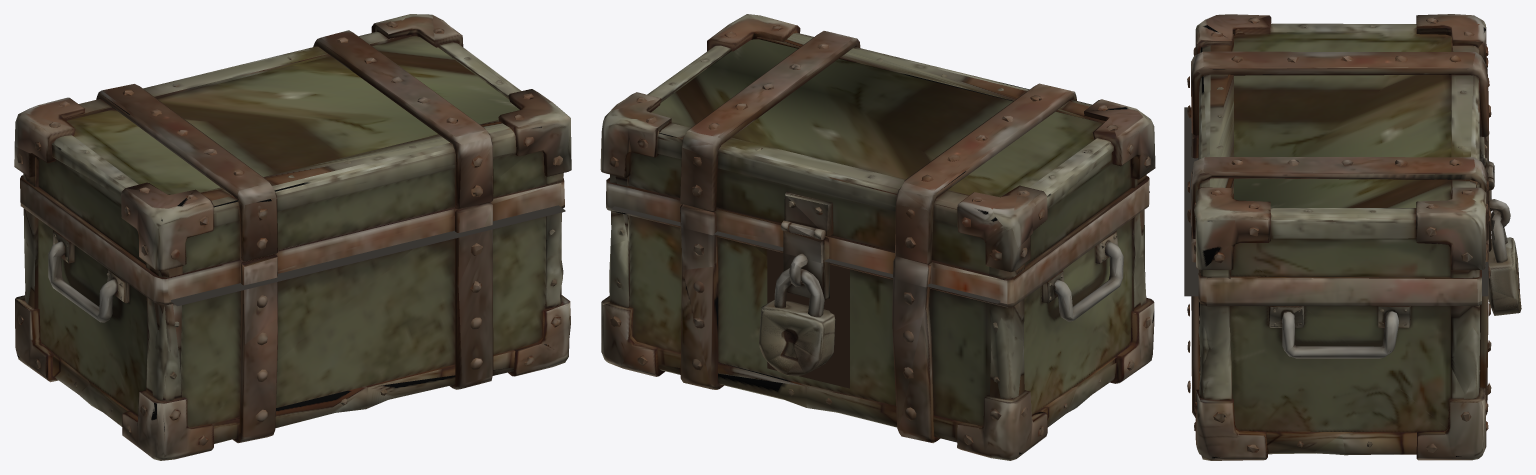
File: ZR_Chest.fbx
The picture shows the model from 3 angles, left to right: view 1: azimuth 30°, elevation 25°; view 2: azimuth 150°, elevation 25°; view 3: azimuth 270°, elevation 25°; orthographic projection.
Parts seen in each view (by area): view 1: ChestLid, ChestBody; view 2: ChestLid, ChestBody, ChestLock; view 3: ChestLid, ChestBody, ChestLock.
Part boxes in pixels (x1,y1,x2,y2): ChestLid: (14,14,571,305); ChestBody: (15,202,570,460); ChestLid: (600,14,1155,304); ChestBody: (601,192,1154,460); ChestLock: (759,264,835,376); ChestLid: (1184,14,1505,302); ChestBody: (1184,159,1508,460); ChestLock: (1488,207,1521,315).
Bounding box in the file's own units: 0.85 × 0.4816 × 0.57.
2 materials, 1 textured.
